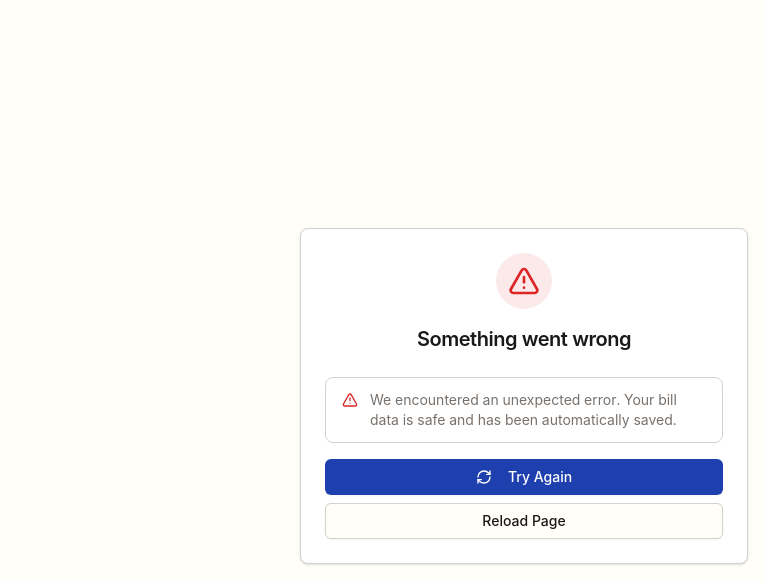
Test: ErrorBoundary › handles retry functionality
The width and height of the screenshot is (765, 582).
Expected: the heading "Something went wrong" is shown, [417, 327, 631, 351]
What coordinates should you click on to do the following:
click the button "Try Again"
I would click on:
 (524, 477)
Its box is [325, 459, 723, 495].
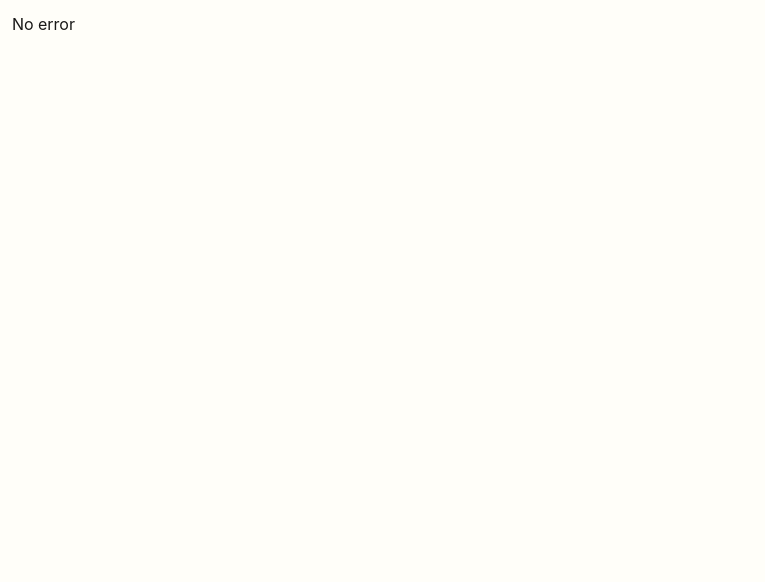
Now the text "No error" is shown, box [12, 14, 75, 34]
